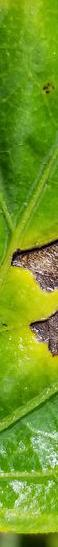Tomato leaf bacterial spot: (0, 0, 58, 535)
